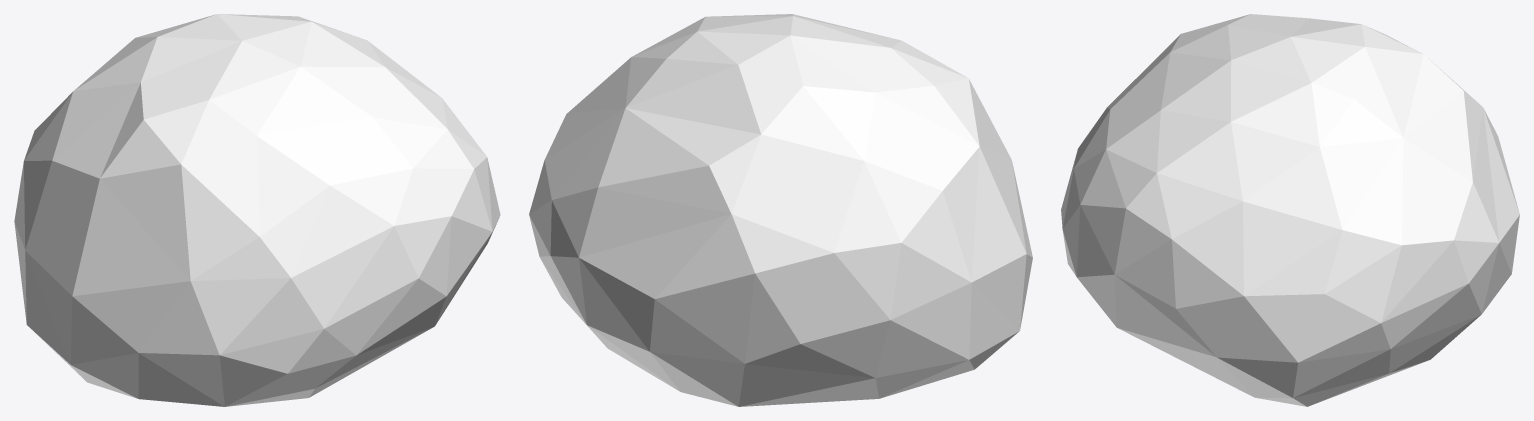
The model's file is SM_Prop_Coral_07.glb.
3 renders of one model, left to right at view 1: azimuth 30°, elevation 25°; view 2: azimuth 150°, elevation 25°; view 3: azimuth 270°, elevation 25°, orthographic. The views are drawn at different scales.
Visible parts, largest first — view 1: SM_Prop_Coral_07; view 2: SM_Prop_Coral_07; view 3: SM_Prop_Coral_07.
Part boxes in pixels (x1,y1,x2,y2): SM_Prop_Coral_07: (14,14,500,406); SM_Prop_Coral_07: (529,14,1032,406); SM_Prop_Coral_07: (1061,14,1519,406).
Bounding box in the file's own units: 0.3519 × 0.2399 × 0.3327.
Materials: 1 (1 with a texture image).
